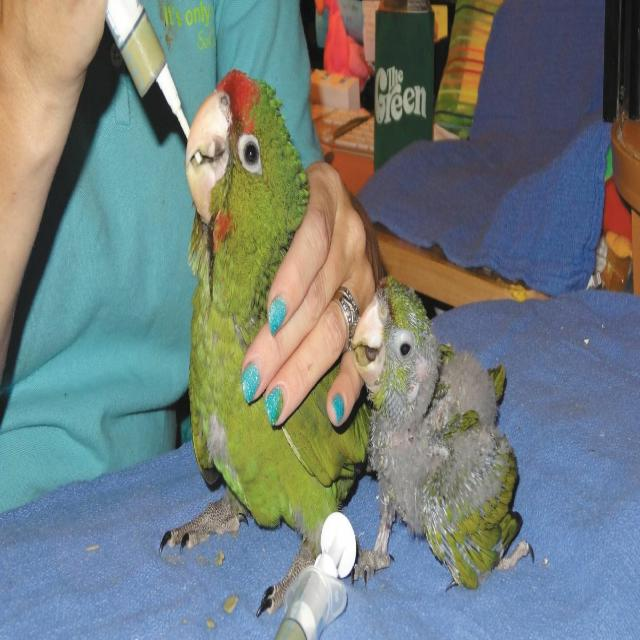Parrot: (178, 65, 351, 578), (356, 270, 518, 600)
